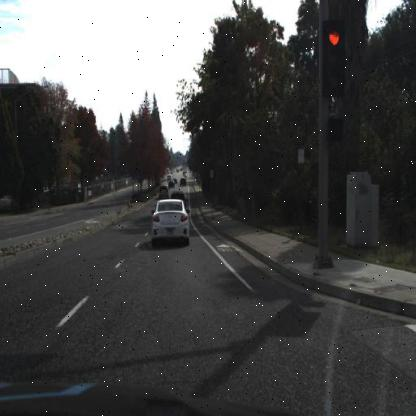car: (149, 196, 191, 246), (169, 188, 187, 204), (156, 184, 170, 200), (178, 176, 188, 188)
trafficLight-Red: (323, 21, 344, 97)
